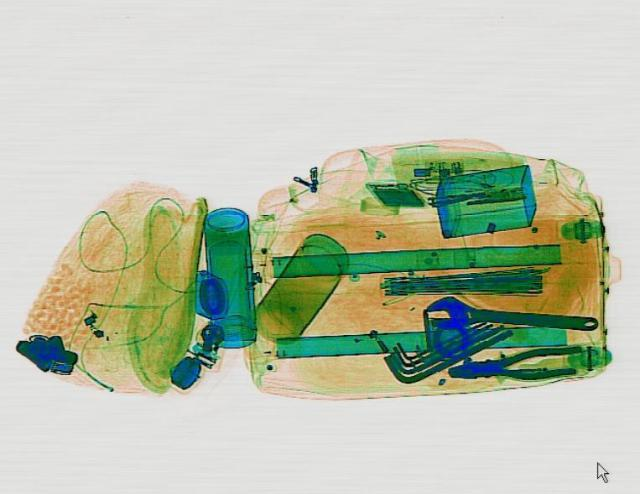Pliers: (444, 343, 586, 386)
Wrench: (422, 293, 598, 336)
